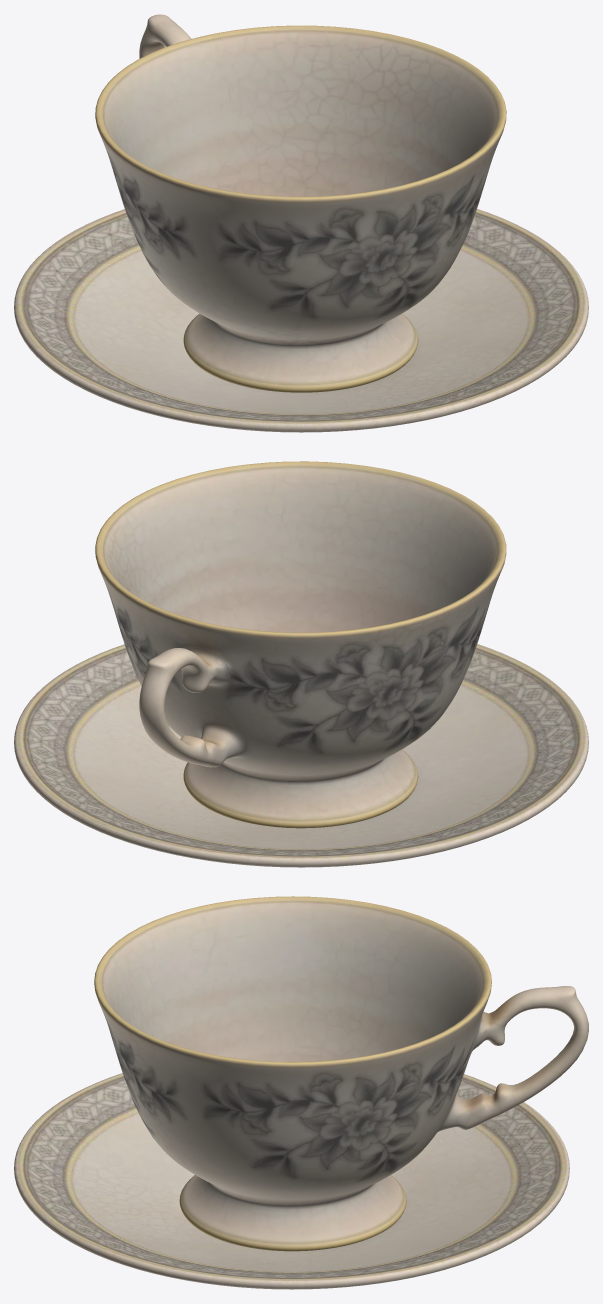
Rendered from DiffuseTransmissionTeacup.glb.
3 renders of one model, top to bottom at view 1: azimuth 30°, elevation 25°; view 2: azimuth 150°, elevation 25°; view 3: azimuth 270°, elevation 25°, orthographic. The views are drawn at different scales.
Parts seen in each view (by area): view 1: tea_cup, tea_saucer; view 2: tea_cup, tea_saucer; view 3: tea_cup, tea_saucer.
Part boxes in pixels (<box>): tea_cup: <box>95,14,506,392</box>; tea_saucer: <box>14,209,588,432</box>; tea_cup: <box>95,461,506,828</box>; tea_saucer: <box>14,644,588,867</box>; tea_cup: <box>94,896,588,1251</box>; tea_saucer: <box>14,1073,569,1289</box>.
Bounding box in the file's own units: 0.1486 × 0.0704 × 0.1537.
Materials: 2 (2 with a texture image).
